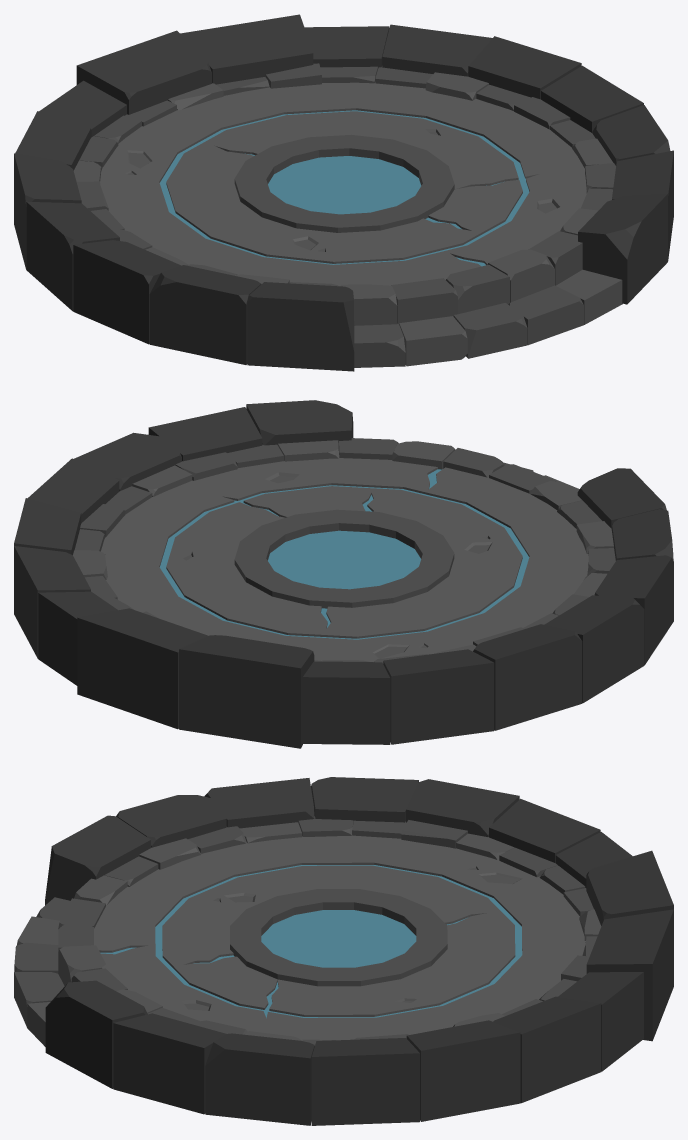
File: Respawn_01.fbx
The picture shows the model from 3 angles, top to bottom: view 1: azimuth 30°, elevation 25°; view 2: azimuth 150°, elevation 25°; view 3: azimuth 270°, elevation 25°; orthographic projection.
Visible parts, largest first — view 1: Respawn_01_LOD0; view 2: Respawn_01_LOD0; view 3: Respawn_01_LOD0.
Boxes of the visible parts, x1,y1,x2,y2 form: Respawn_01_LOD0: (14,14,673,371); Respawn_01_LOD0: (14,400,673,748); Respawn_01_LOD0: (14,777,673,1125).
Size of what is drawn, in the model's own units: 519 by 69.88 by 516.
